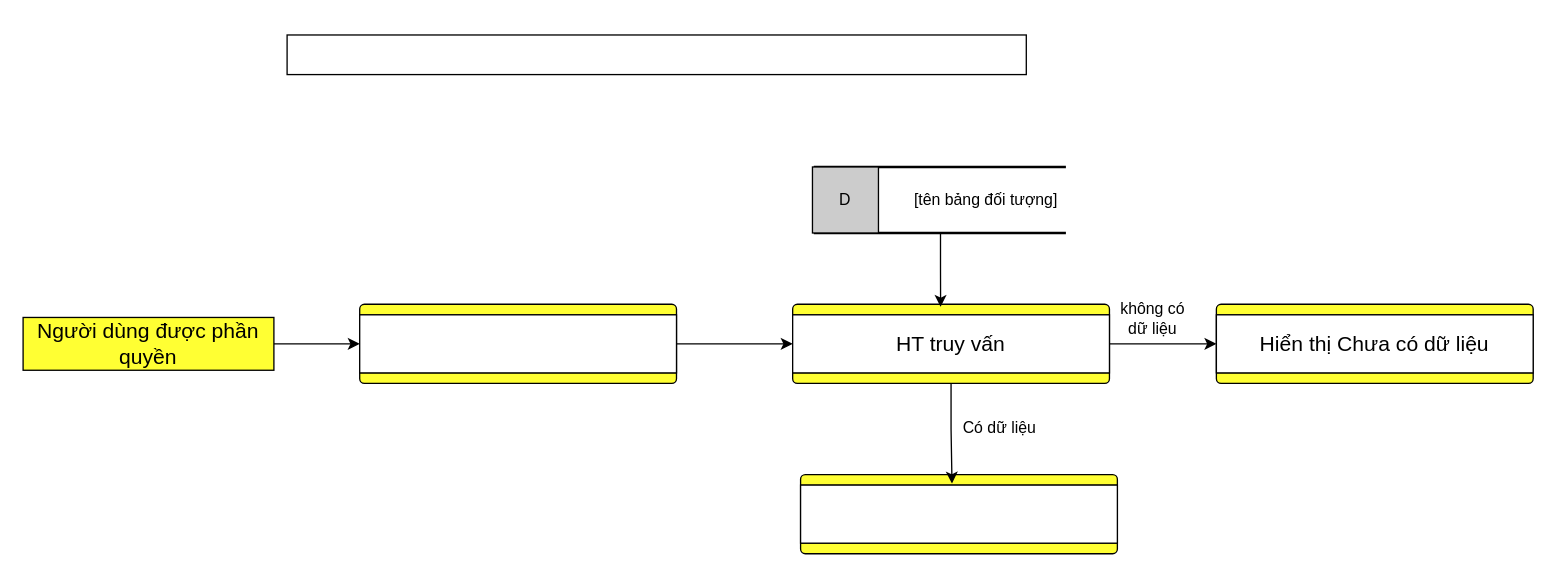
Some shapes in this 1556 by 577 pixel diagram are drawn without their labels. The shapes that lost their labels are listed below. From the top down, each one's centre as x and y in pixels, then its label:
point (656, 54): XEM DANH SÁCH
point (517, 343): Truy cập quản lý mệnh lệnh vận chuyển
point (958, 513): Hiển thị Danh sách mệnh lệnh vận chuyển
